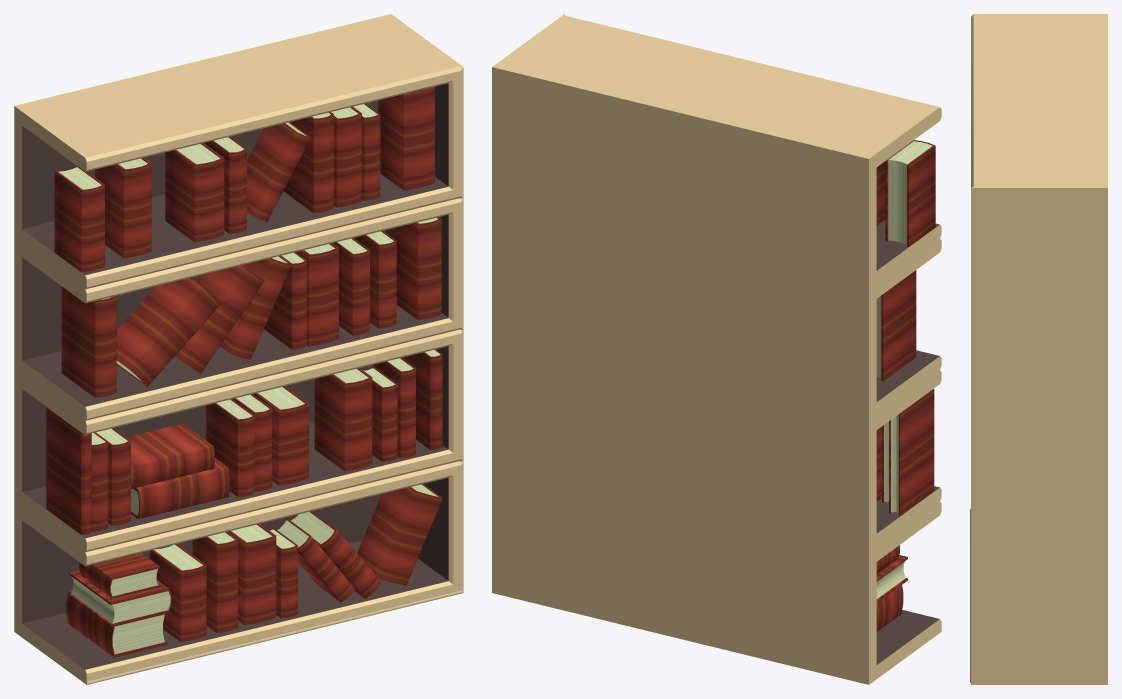
File: bookshelf_hidden_entrance.glb
3 views of the same model, side by side, from view 1: azimuth 30°, elevation 25°; view 2: azimuth 150°, elevation 25°; view 3: azimuth 270°, elevation 25° (orthographic). The views are drawn at different scales.
Visible parts, largest first — view 1: bookshelf_sprite, book.192, book.199, book.171, book.177, book.184, book.182, book.175, book.193, book.176, book.189, book.203 (+29 smaller); view 2: bookshelf_sprite, book.175, book.193, book.184, book.173, book.172; view 3: bookshelf_sprite.
Boxes of the visible parts, x1,y1,x2,y2 form: bookshelf_sprite: (14,14,463,684); book.192: (116,277,220,386); book.199: (314,368,372,470); book.171: (357,484,442,585); book.177: (165,143,224,241); book.184: (61,286,116,397); book.182: (378,86,434,190); book.175: (54,166,104,272); book.193: (46,407,91,534); book.176: (95,157,151,258); book.189: (392,217,441,320); book.203: (126,423,214,488); bookshelf_sprite: (492,14,941,684); book.175: (885,140,935,246); book.193: (889,388,934,515); book.184: (876,270,916,381); book.173: (876,555,907,602); book.172: (876,585,903,631); bookshelf_sprite: (970,14,1107,684).
Size of the model in its own units: 1.88 by 2.5 by 0.6294.
Materials: 3 (1 with a texture image).
